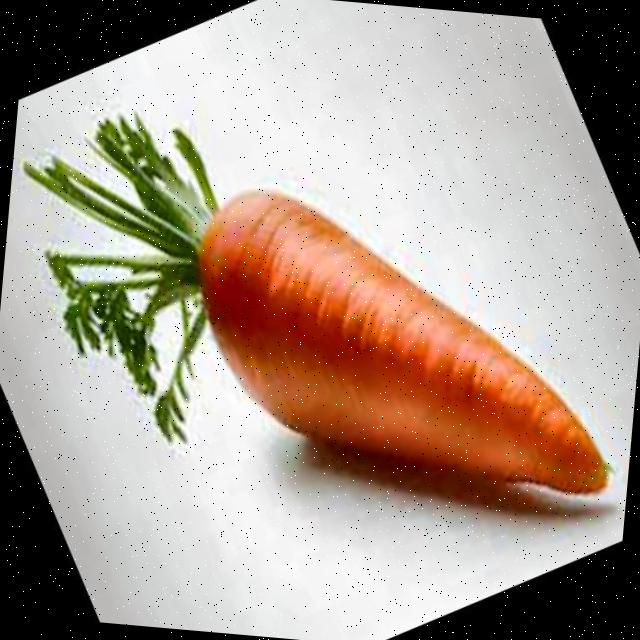carrot: (24, 114, 606, 492)
